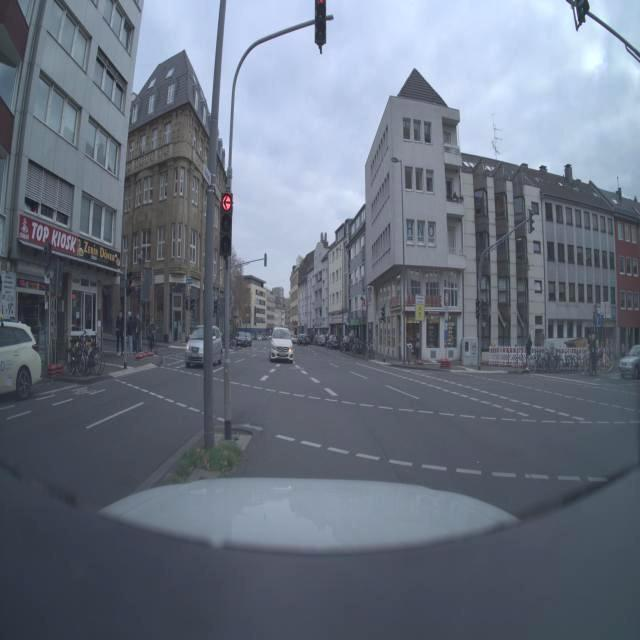Red: (216, 186, 241, 265), (307, 0, 328, 47)
